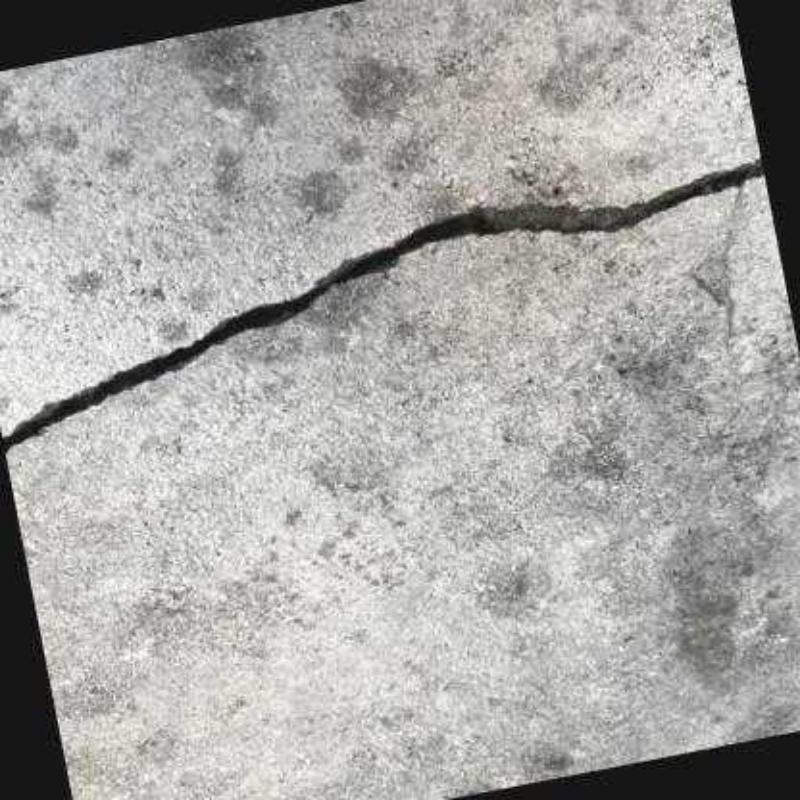pothole: (1, 156, 766, 456)
